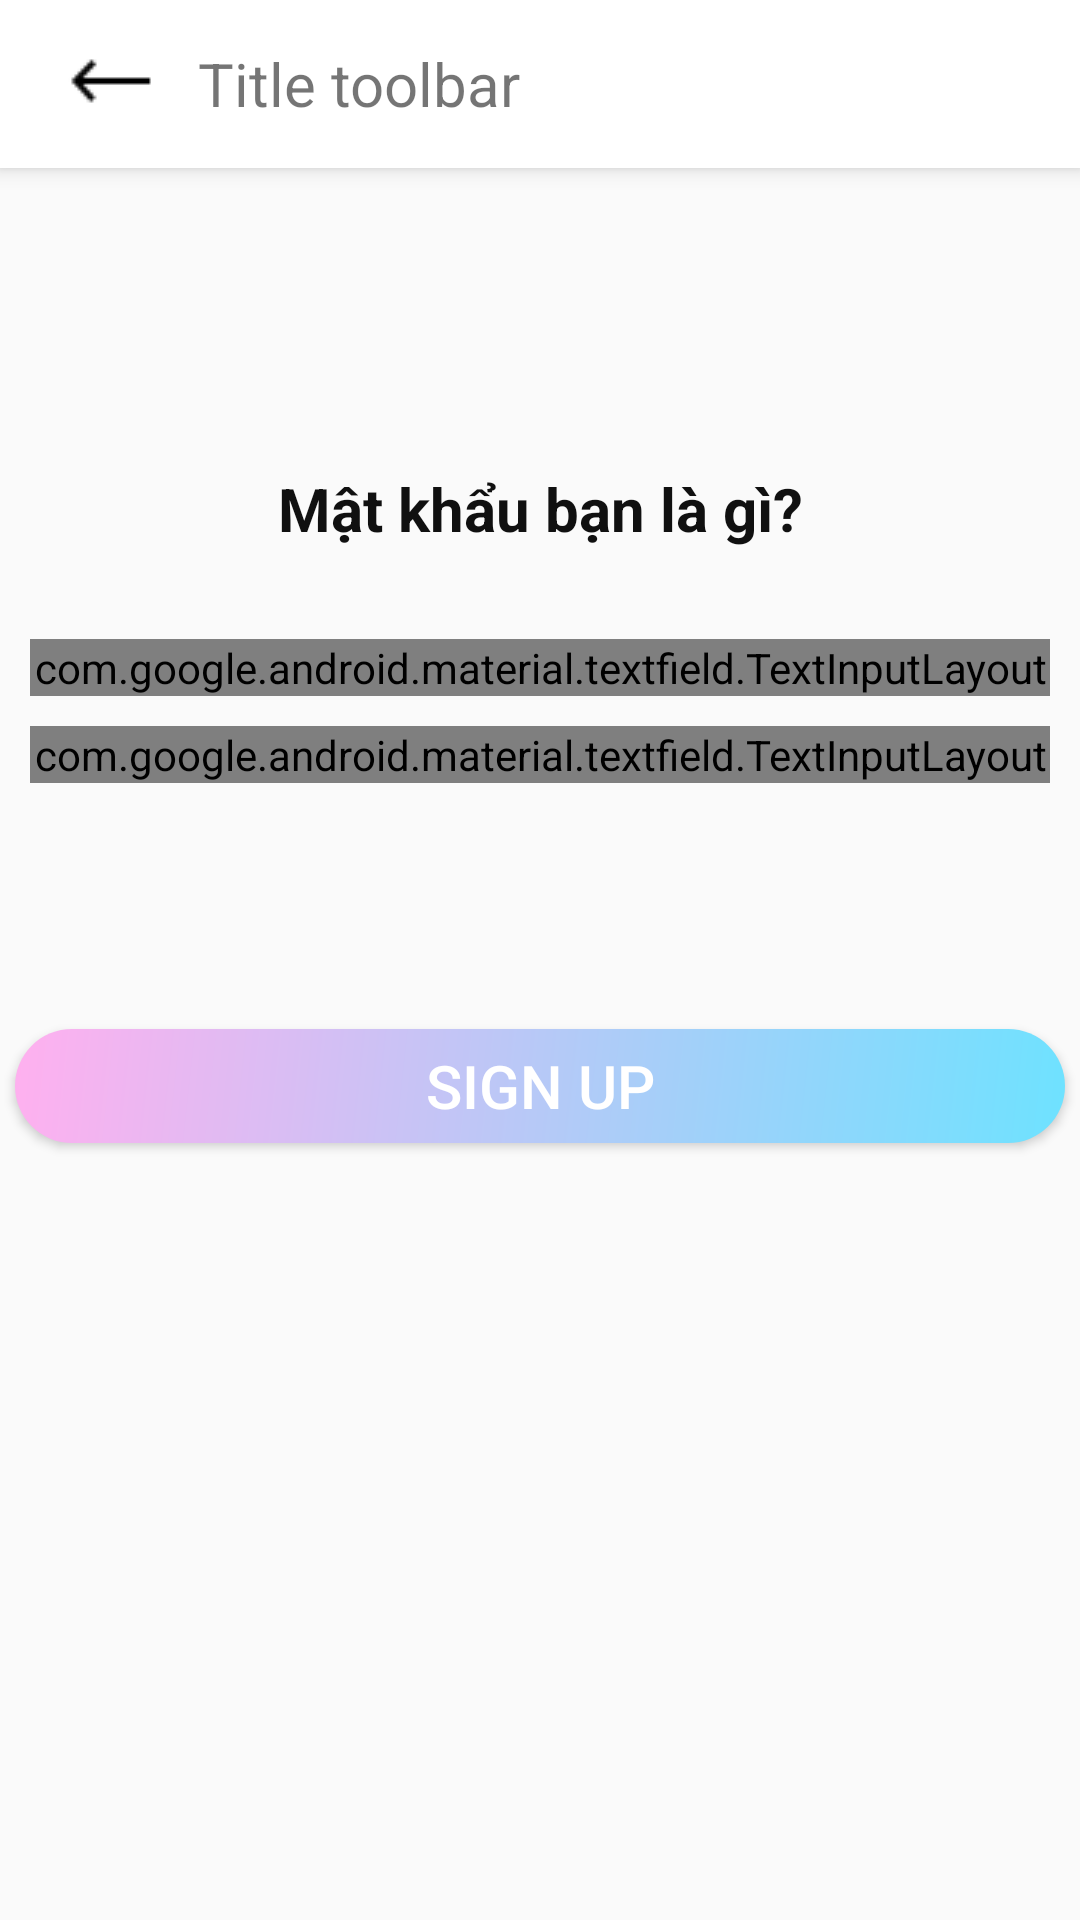

Screen size 1080w x 1920h. Icon name, then its box in pixels as (x1, y1, x2, y2):
back toolbar: (71, 59, 151, 103)
